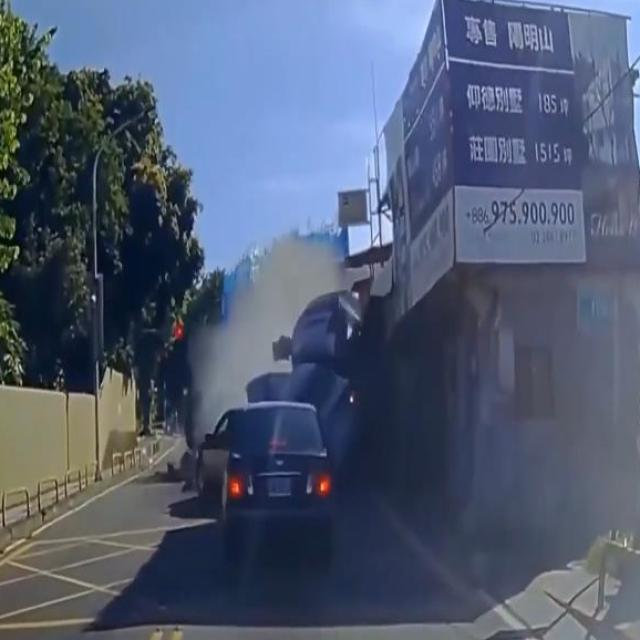accident: (183, 260, 393, 452)
